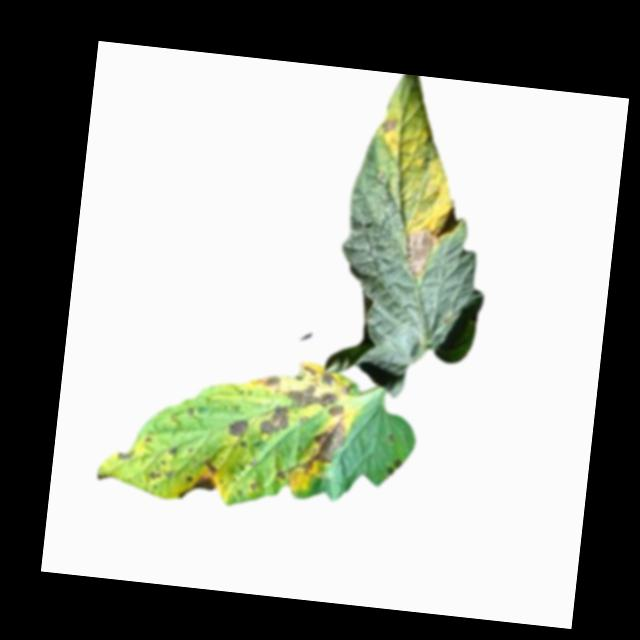Early_blight: (251, 355, 354, 420), (298, 416, 350, 479), (177, 457, 222, 503), (399, 228, 438, 278), (258, 407, 294, 440), (228, 417, 249, 441), (148, 469, 174, 485), (380, 117, 403, 134), (386, 459, 402, 478), (114, 449, 134, 463), (167, 446, 179, 460), (277, 470, 287, 482)
